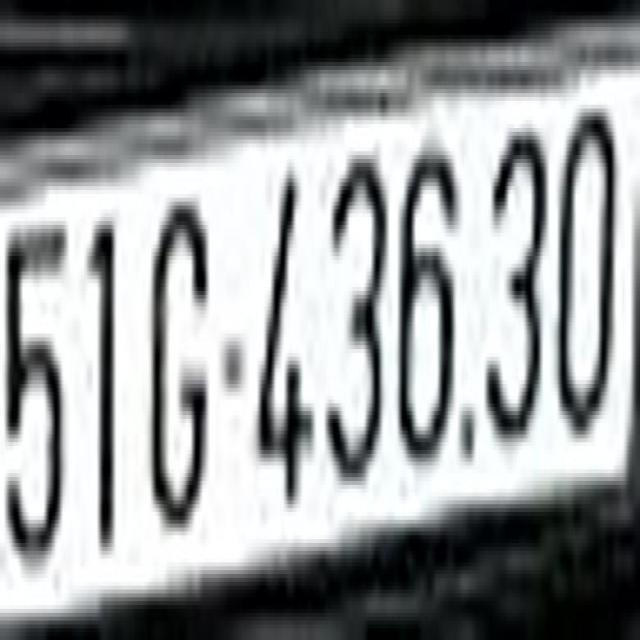0: (558, 81, 620, 438)
1: (88, 224, 119, 566)
3: (320, 152, 384, 496), (485, 101, 546, 458)
4: (258, 175, 310, 512)
5: (0, 217, 70, 570)
6: (398, 140, 456, 473)
G: (150, 198, 212, 540)
